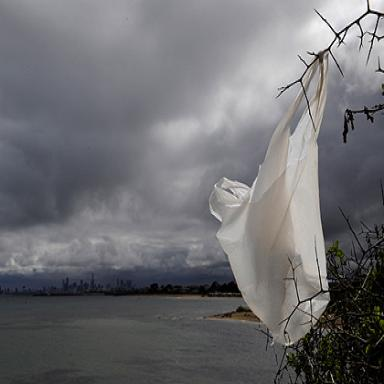plasticbag: (207, 46, 332, 346)
